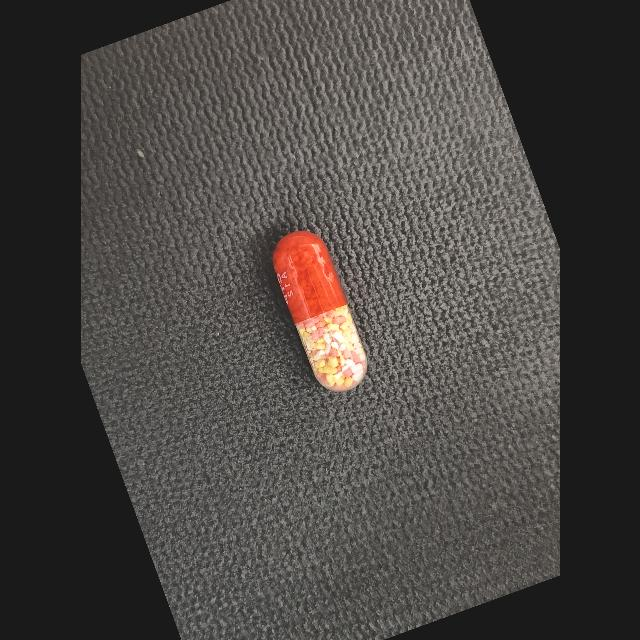Intact Capsule: (272, 231, 367, 392)
